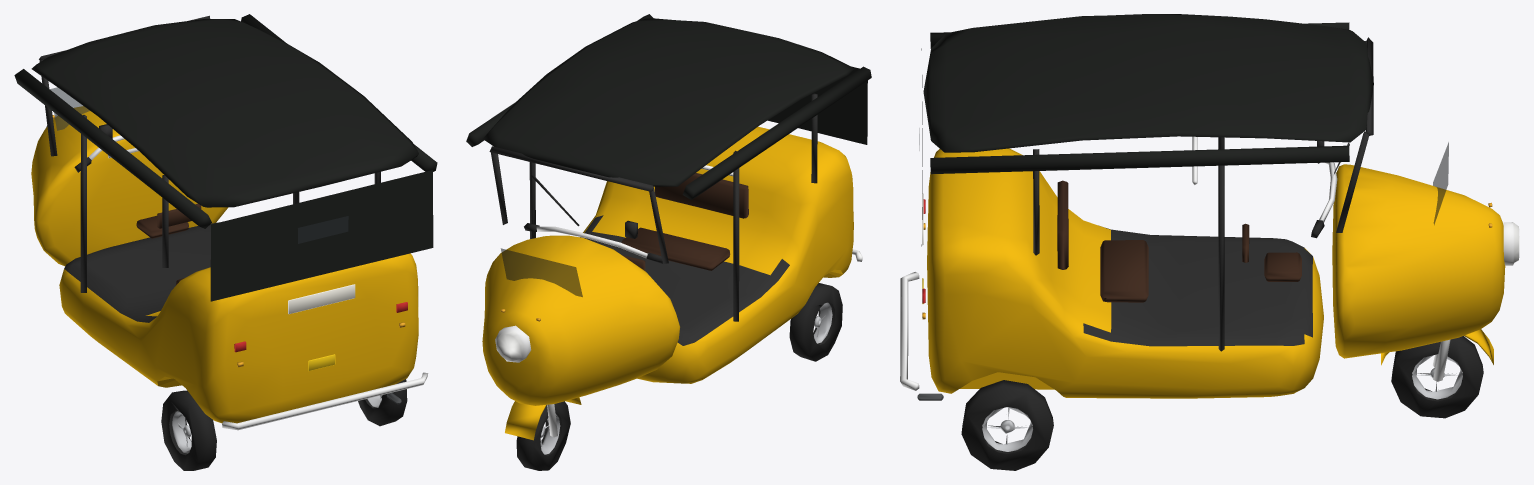
File: auto_0_lo.glb
3 views of the same model, side by side, from view 1: azimuth 30°, elevation 25°; view 2: azimuth 150°, elevation 25°; view 3: azimuth 270°, elevation 25° (orthographic). The views are drawn at different scales.
Parts seen in each view (by area): view 1: body, wheel_1, wheel_2; view 2: body, wheel_1, wheel_0; view 3: body, wheel_2, wheel_0.
Boxes of the visible parts, box(x1,y1,x2,y2) form: body: box(14, 14, 437, 430); wheel_1: box(161, 390, 216, 470); wheel_2: box(358, 379, 407, 426); body: box(466, 14, 871, 440); wheel_1: box(789, 283, 842, 361); wheel_0: box(516, 401, 570, 470); body: box(900, 14, 1519, 400); wheel_2: box(961, 380, 1053, 470); wheel_0: box(1391, 336, 1483, 418).
Bounding box in the file's own units: 1.42 × 1.75 × 2.81.
